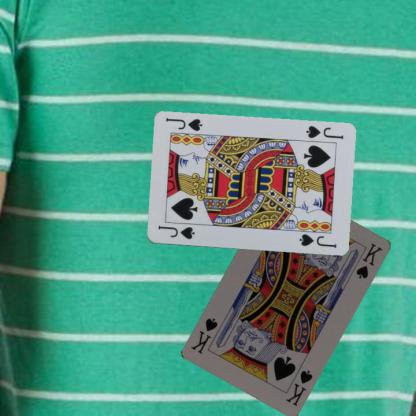Js: (155, 222, 196, 241), (303, 123, 344, 141)
Ks: (282, 367, 314, 407)
